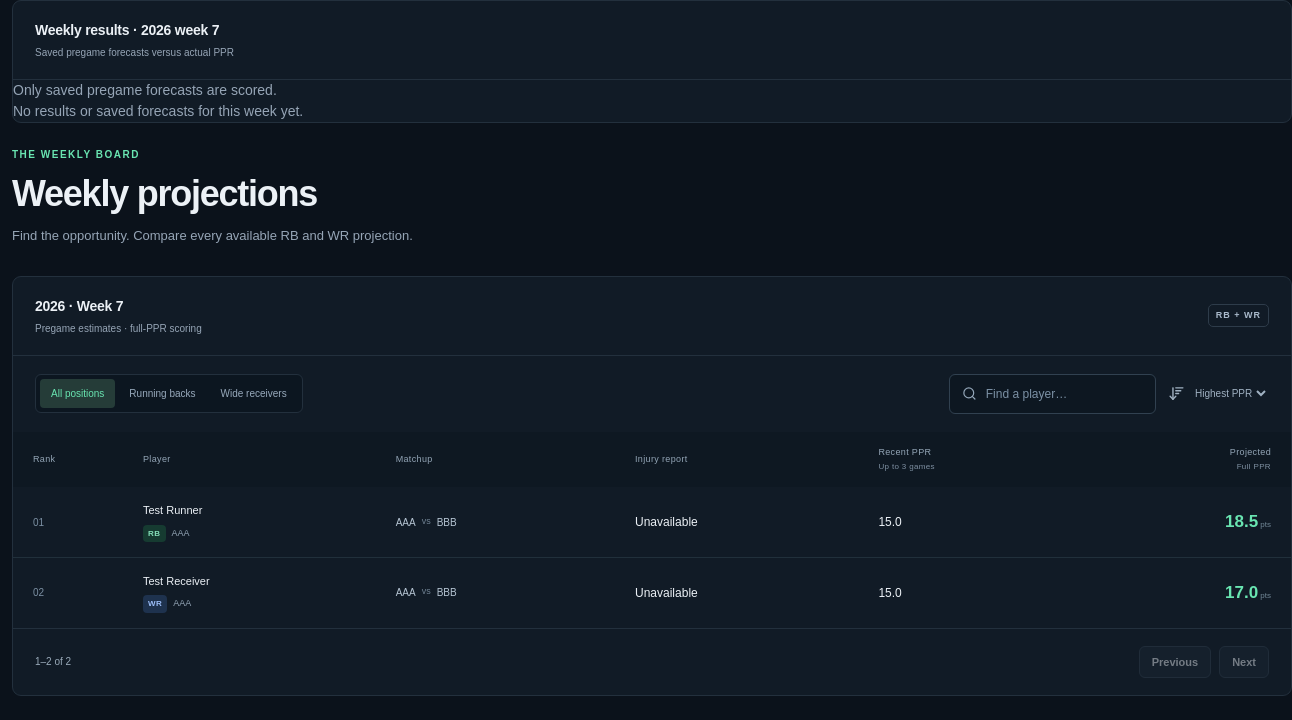
Test: workspace and data views › filters projection names and sorts loaded points
The width and height of the screenshot is (1292, 720).
Expected: the link "Test Runner RB AAA" is shown, top-left (143, 504), bottom-right (202, 542)
Select "Lowest PPR" in the dropdown named "Sort projected points". click: (1230, 394)
box: top-left (1191, 379), bottom-right (1269, 408)
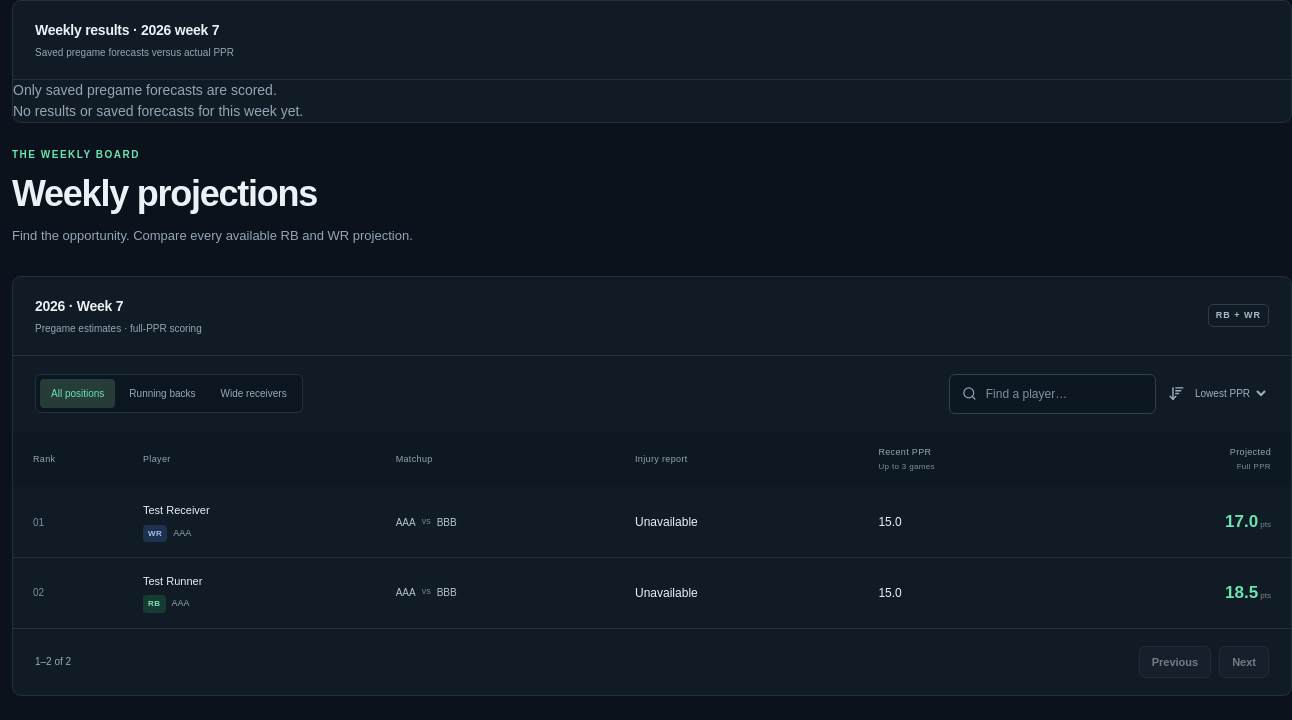
Expected: the text "Test Receiver" is shown, top-left (143, 504), bottom-right (210, 516)
Type "Runner" into the field named "Search projected players". click: (1064, 394)
box: top-left (986, 385), bottom-right (1143, 403)
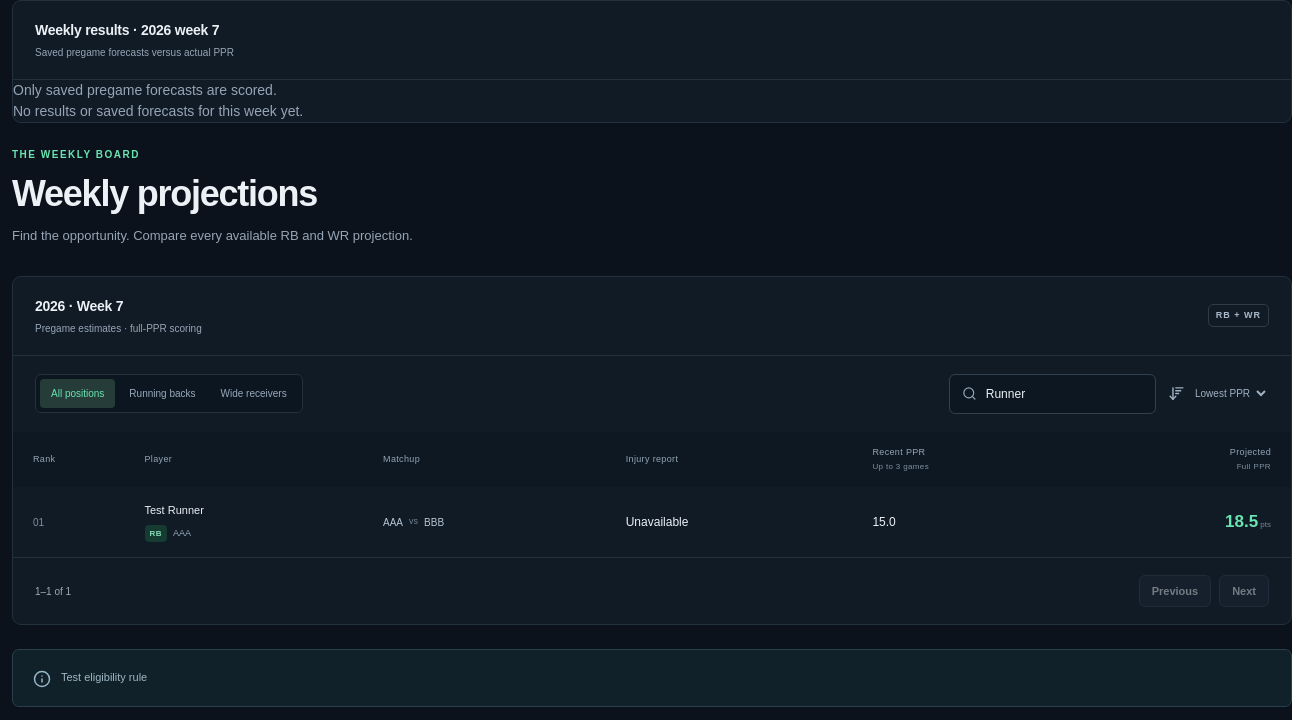
Expected: the link "Test Receiver" is gone
